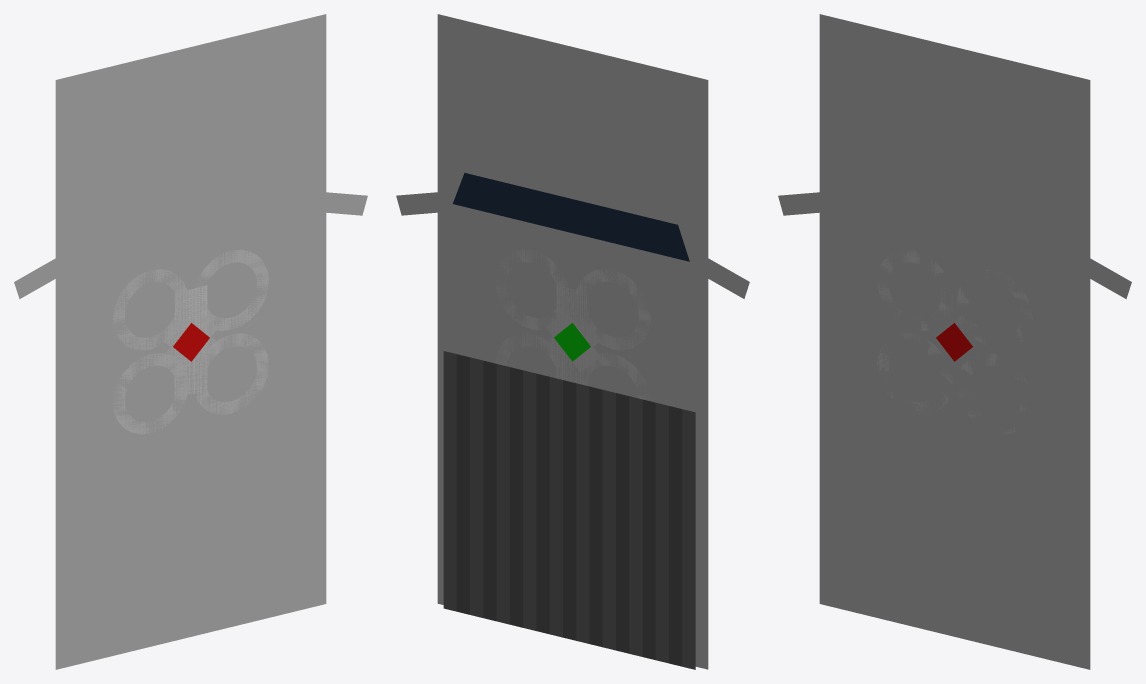
File: CarTest.fbx
The picture shows the model from 3 angles, left to right: view 1: azimuth 30°, elevation 25°; view 2: azimuth 150°, elevation 25°; view 3: azimuth 330°, elevation 25°; orthographic projection.
Visible parts, largest first — view 1: Body, ZDrone, WheelA; view 2: Body, ZDrone, WheelA; view 3: Body, ZDrone.
Boxes of the visible parts, x1=… form: Body: x1=14, y1=14, x2=367, y2=669; ZDrone: x1=113, y1=249, x2=268, y2=434; WheelA: x1=174, y1=285, x2=207, y2=397; Body: x1=396, y1=14, x2=749, y2=669; ZDrone: x1=495, y1=250, x2=650, y2=399; WheelA: x1=556, y1=285, x2=588, y2=382; Body: x1=778, y1=14, x2=1131, y2=669; ZDrone: x1=877, y1=250, x2=1032, y2=434.
Size of the model in its own units: 1.19 by 1.9 by 0.0227.
